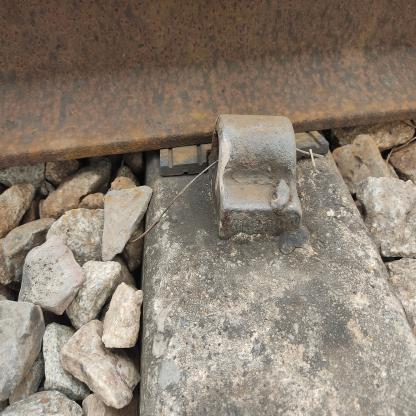Defective 1: (143, 51, 351, 281)
